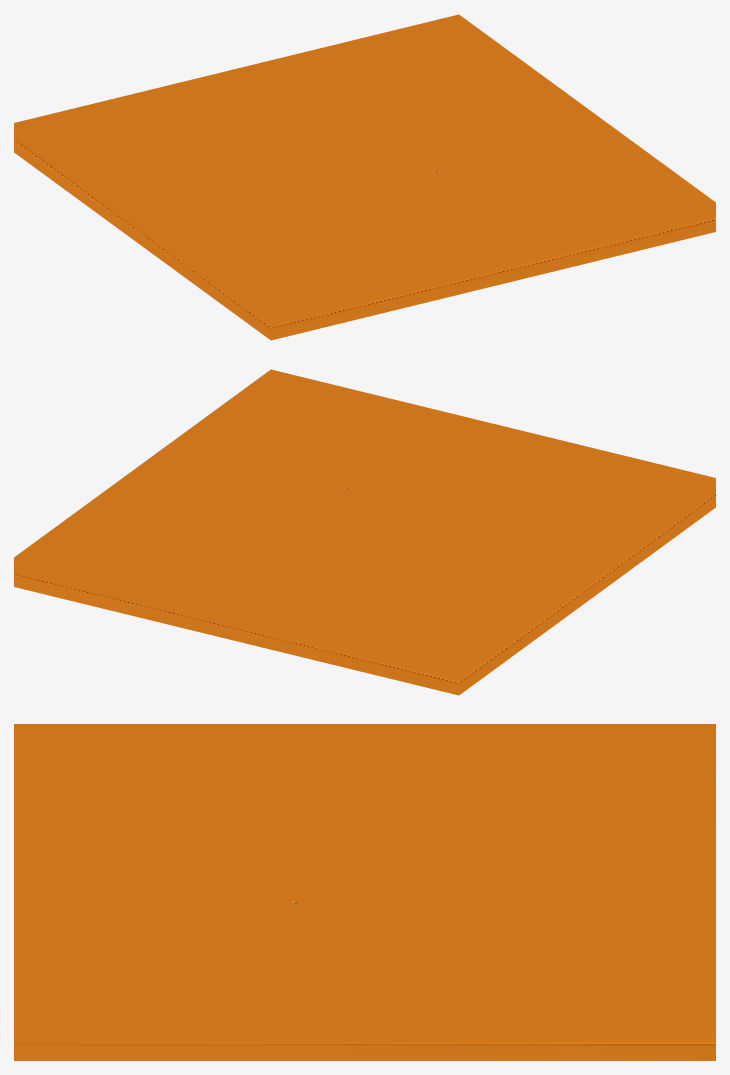
Rendered from Ground.fbx.
3 views of the same model, one above another, from view 1: azimuth 30°, elevation 25°; view 2: azimuth 150°, elevation 25°; view 3: azimuth 270°, elevation 25° (orthographic). The views are drawn at different scales.
Parts seen in each view (by area): view 1: Ground; view 2: Ground; view 3: Ground.
Boxes of the visible parts, box(x1,y1,x2,y2) form: Ground: box(14, 14, 715, 340); Ground: box(14, 369, 715, 695); Ground: box(14, 724, 715, 1060).
Size of the model in its own units: 1000 by 63.21 by 1000.
